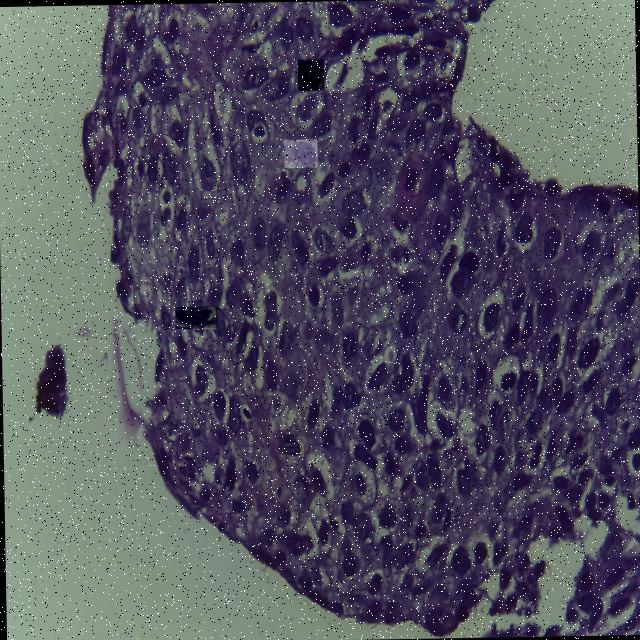Multiple Nucleol: (283, 139, 316, 166), (174, 306, 215, 327), (297, 59, 322, 89), (276, 429, 302, 457)
